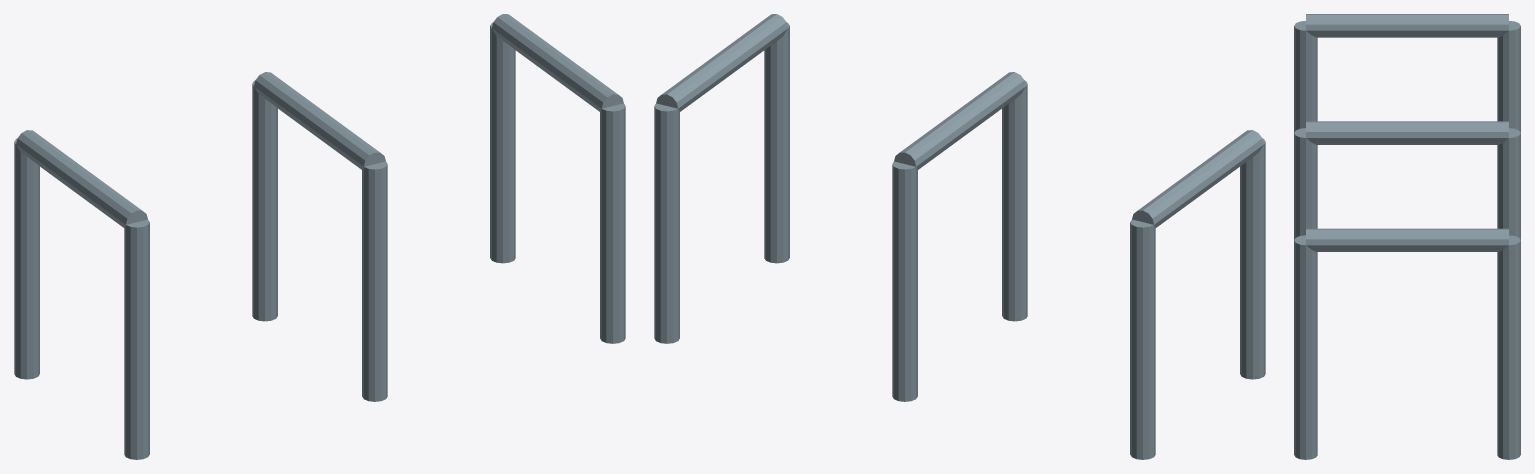
The model's file is bike_rack.glb.
The picture shows the model from 3 angles, left to right: view 1: azimuth 30°, elevation 25°; view 2: azimuth 150°, elevation 25°; view 3: azimuth 270°, elevation 25°; orthographic projection. The views are drawn at different scales.
Visible parts, largest first — view 1: bike_rack_000, bike_rack_003, bike_rack_006, bike_rack_001, bike_rack_004, bike_rack_007, bike_rack_005, bike_rack_008, bike_rack_002; view 2: bike_rack_001, bike_rack_004, bike_rack_007, bike_rack_000, bike_rack_003, bike_rack_006, bike_rack_005, bike_rack_008, bike_rack_002; view 3: bike_rack_006, bike_rack_007, bike_rack_008, bike_rack_005, bike_rack_002, bike_rack_000, bike_rack_001, bike_rack_003, bike_rack_004.
Boxes of the visible parts, left/top/right/bottom form: bike_rack_000: left=124, top=219, right=149, bottom=459; bike_rack_003: left=362, top=161, right=387, bottom=401; bike_rack_006: left=600, top=103, right=625, bottom=343; bike_rack_001: left=14, top=138, right=39, bottom=379; bike_rack_004: left=252, top=80, right=277, bottom=321; bike_rack_007: left=490, top=22, right=515, bottom=263; bike_rack_005: left=254, top=72, right=385, bottom=169; bike_rack_008: left=492, top=14, right=623, bottom=111; bike_rack_002: left=16, top=130, right=147, bottom=227; bike_rack_001: left=1130, top=219, right=1155, bottom=459; bike_rack_004: left=892, top=161, right=917, bottom=401; bike_rack_007: left=654, top=103, right=679, bottom=343; bike_rack_000: left=1240, top=138, right=1265, bottom=379; bike_rack_003: left=1002, top=80, right=1027, bottom=321; bike_rack_006: left=764, top=22, right=789, bottom=263; bike_rack_005: left=894, top=72, right=1025, bottom=169; bike_rack_008: left=656, top=14, right=787, bottom=111; bike_rack_002: left=1132, top=130, right=1263, bottom=227; bike_rack_006: left=1294, top=235, right=1317, bottom=459; bike_rack_007: left=1497, top=235, right=1520, bottom=459; bike_rack_008: left=1306, top=228, right=1508, bottom=251; bike_rack_005: left=1306, top=121, right=1508, bottom=144; bike_rack_002: left=1306, top=14, right=1508, bottom=37; bike_rack_000: left=1294, top=21, right=1317, bottom=132; bike_rack_001: left=1497, top=21, right=1520, bottom=132; bike_rack_003: left=1294, top=128, right=1317, bottom=239; bike_rack_004: left=1497, top=128, right=1520, bottom=239.
Size of the model in its own units: 1.57 by 0.735 by 0.67.
